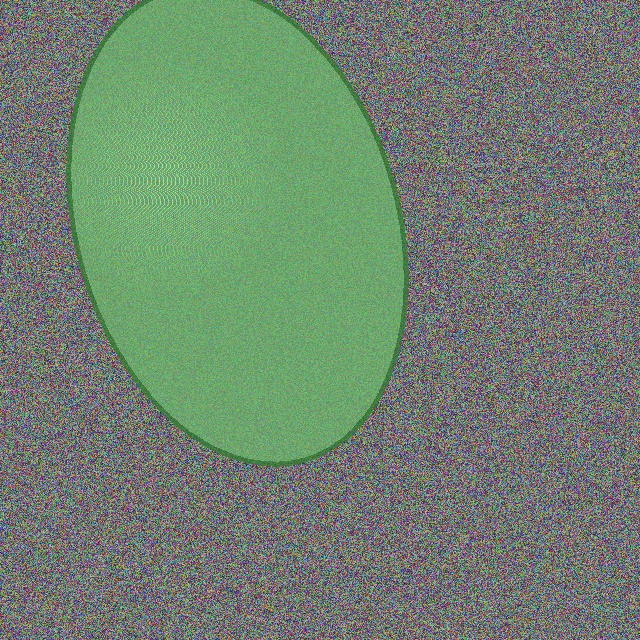lens: (69, 0, 405, 463)
